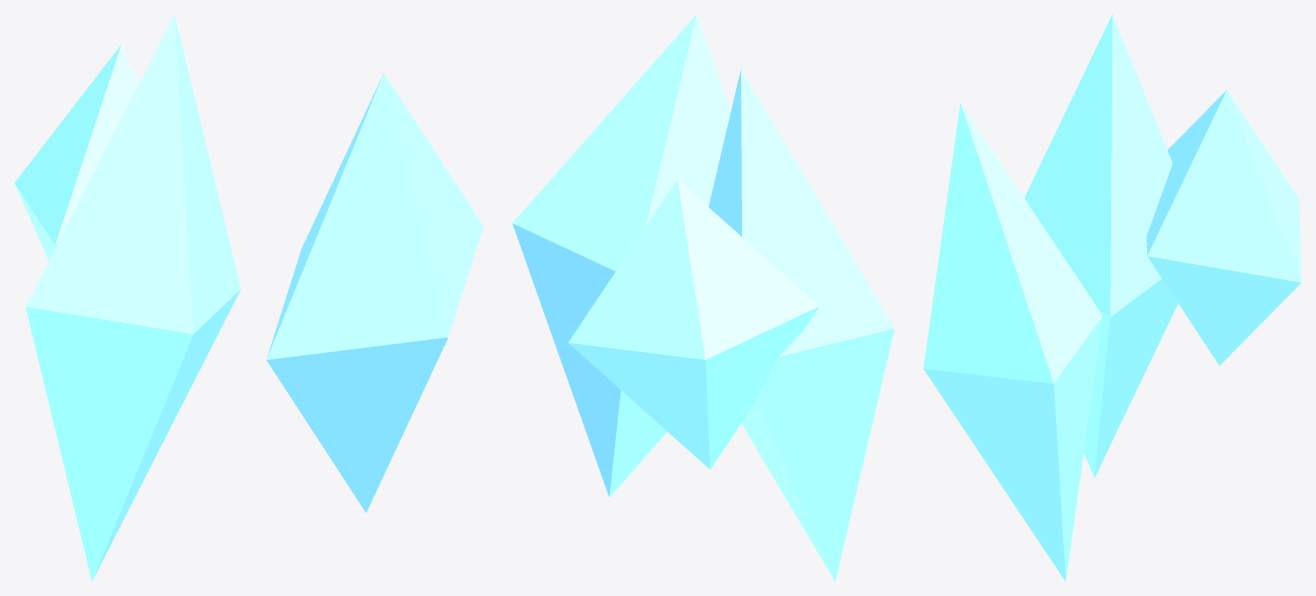
The model's file is crystals.glb.
The picture shows the model from 3 angles, left to right: view 1: azimuth 30°, elevation 25°; view 2: azimuth 150°, elevation 25°; view 3: azimuth 270°, elevation 25°; orthographic projection. The views are drawn at different scales.
Size of the model in its own units: 1.12 by 1.33 by 0.8965.
